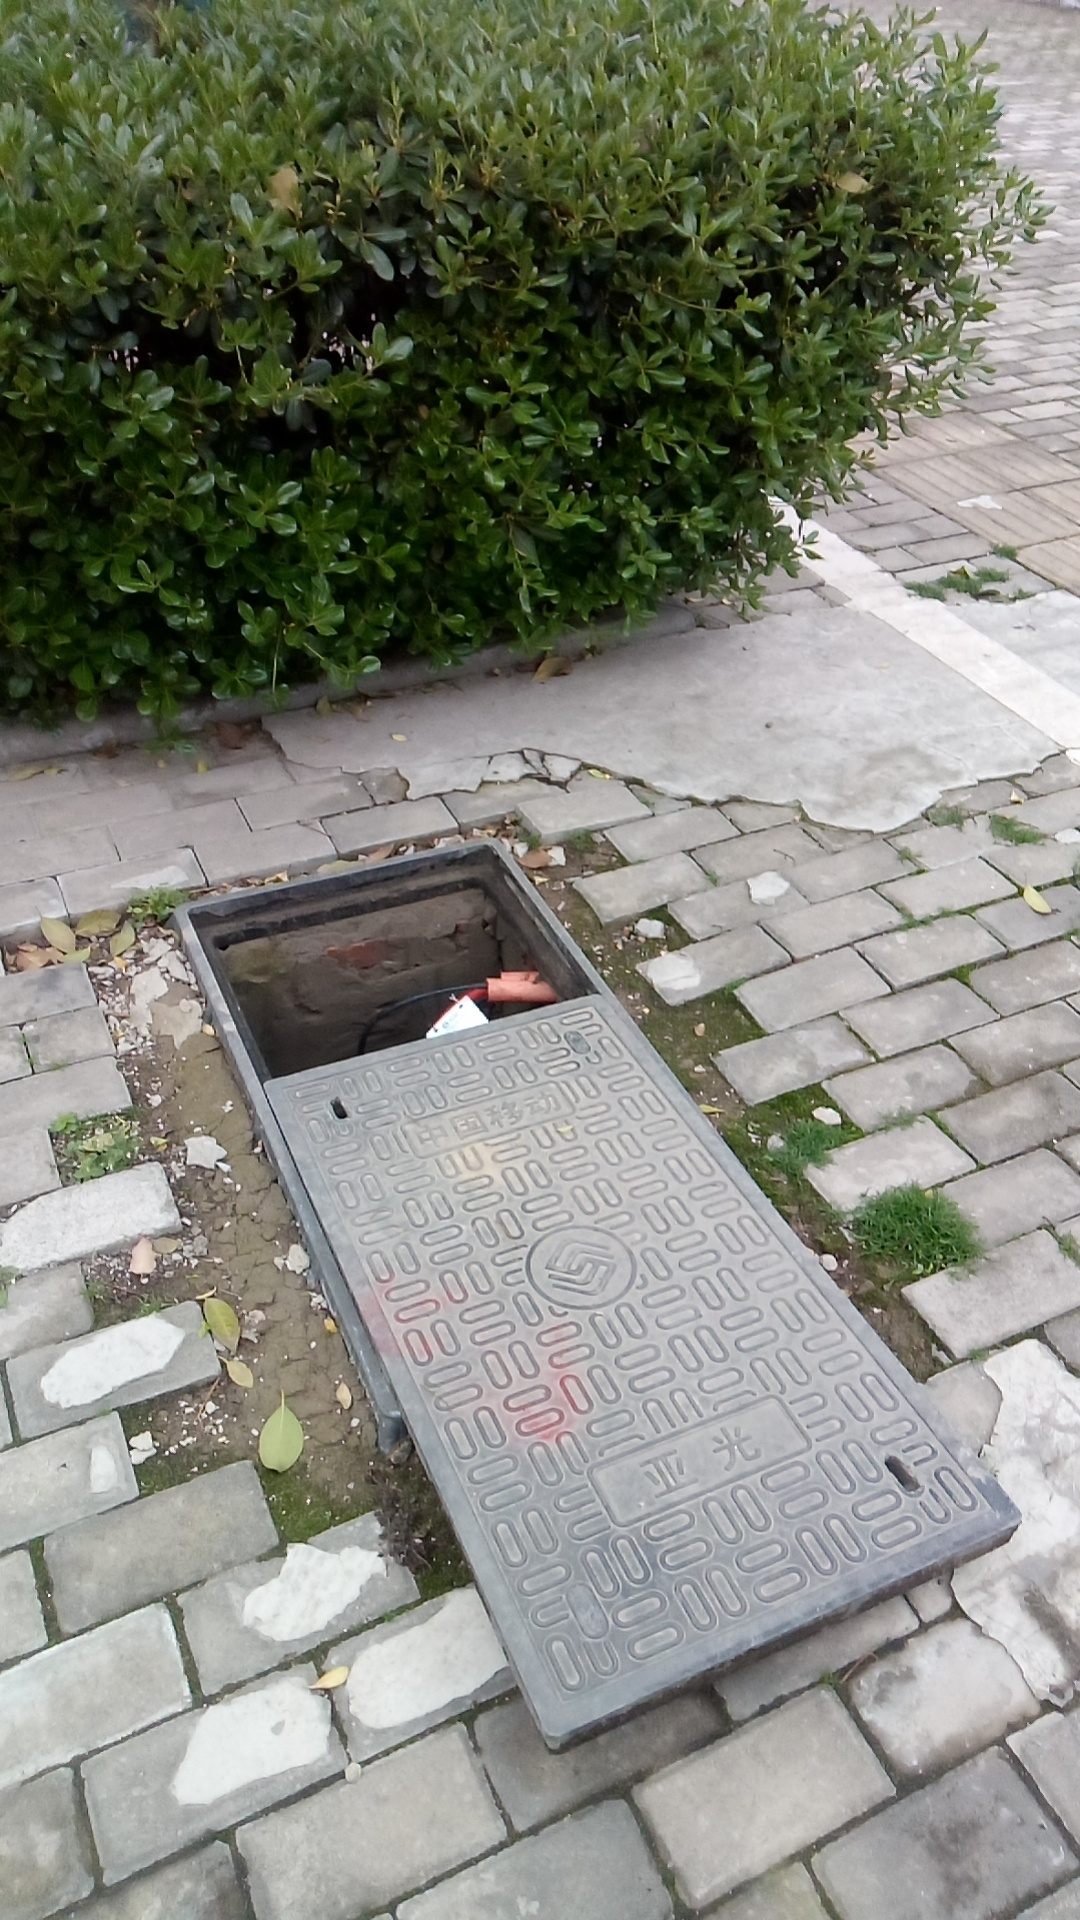well: (189, 829, 1015, 1771)
